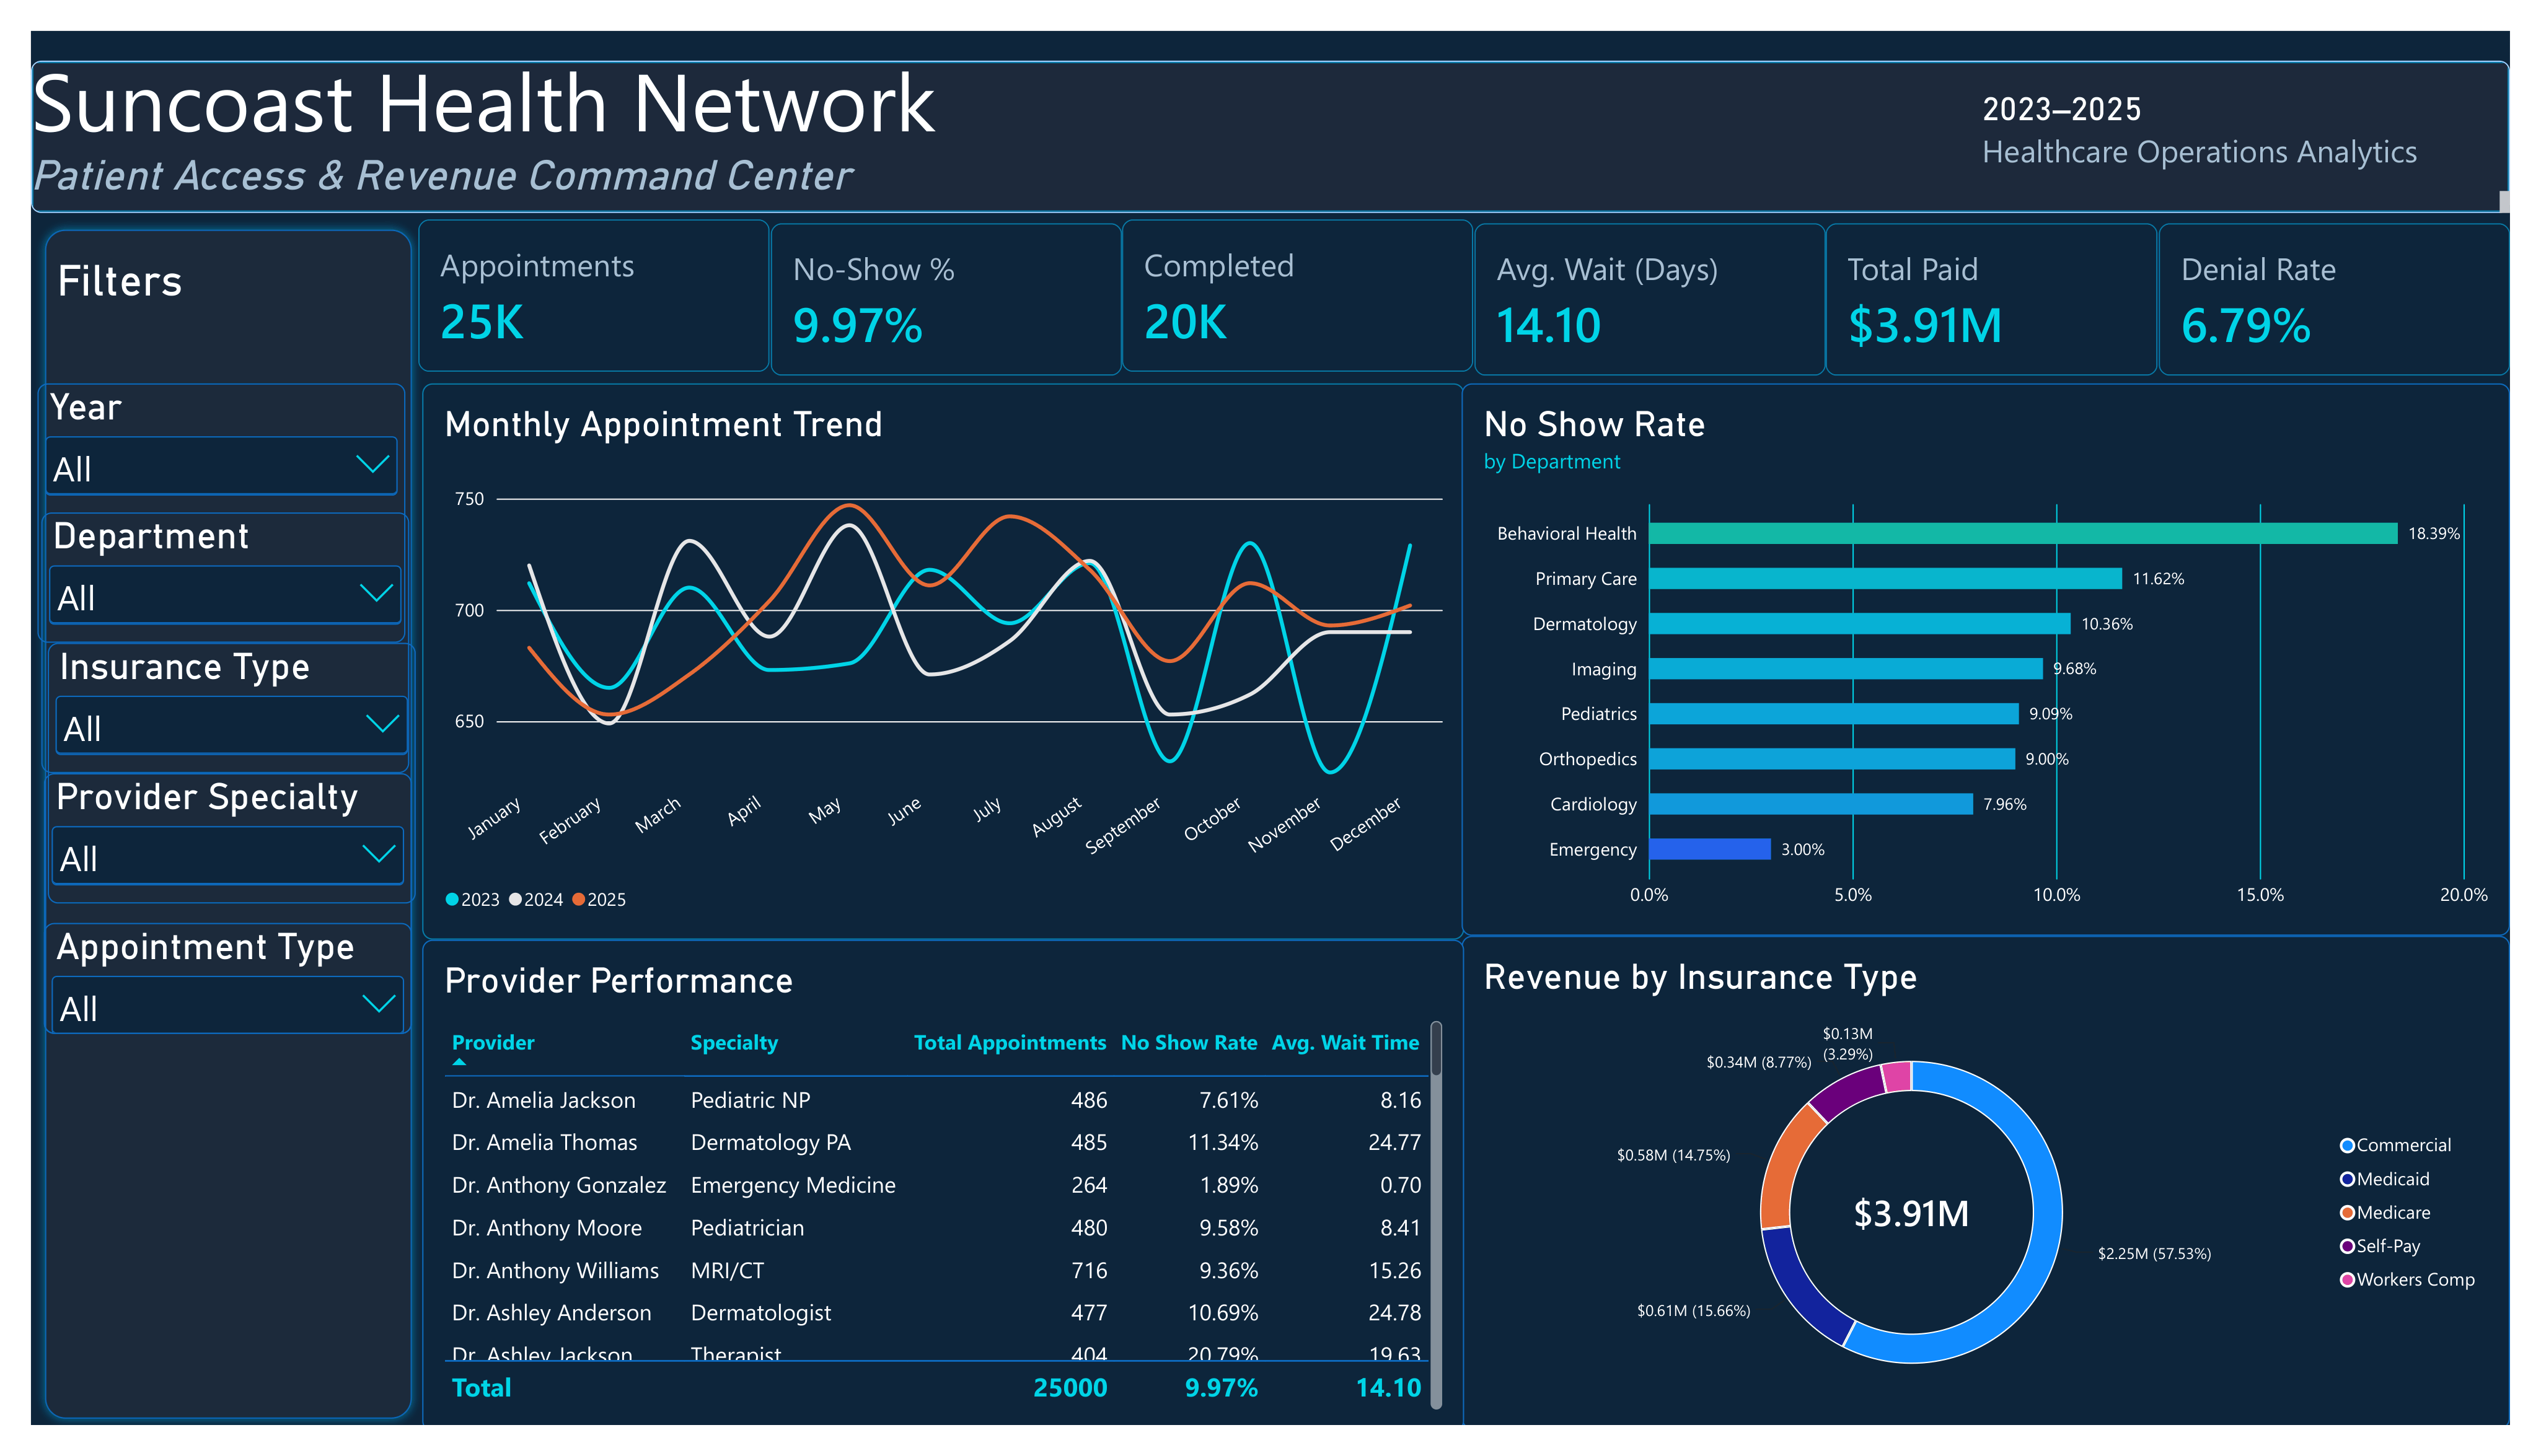

The page's visual inventory and layout, read from the dashboard file:
{"tool":"powerbi","page":{"name":"Executive Overview","canvas":[1920,1080],"ordinal":0},"visuals":[{"type":"shape","box":[0,22.7,1920.3,118.6],"z":0},{"type":"textbox","title":"Suncoast Health Network","box":[0,10.1,1140.6,138.8],"z":1000},{"type":"textbox","title":"Patient Access & Revenue Command Center","box":[0,93.4,1920.3,40.4],"z":2000},{"type":"textbox","title":"2023–2025 ","box":[1511.5,45.4,408.8,95.9],"z":3000},{"type":"shape","title":"Filters","box":[2.5,146.4,300.3,936.2],"z":4000},{"type":"textbox","title":"Filters","box":[20.2,174.1,244.8,93.4],"z":5000},{"type":"slicer","fields":{"Values":["DimDate.Year"]},"box":[5,272.5,285.1,201.9],"z":6000},{"type":"cardVisual","title":"No Show Rate","fields":{"Data":["FactAppointments.No Show Rate"]},"box":[572.8,148.9,272.5,118.6],"z":7000},{"type":"lineChart","title":"Monthly Appointment Trend","fields":{"Category":["DimDate.MonthName"],"Series":["DimDate.Year"],"Y":["DimDate.Total Appointments"]},"box":[302.8,272.5,807.5,431.5],"z":8000},{"type":"clusteredBarChart","title":"No Show Rate","fields":{"Category":["DimDepartment.DepartmentName"],"Y":["FactAppointments.No Show Rate"]},"box":[1107.8,272.5,812.5,429],"z":9000},{"type":"donutChart","title":"Revenue by Insurance Type","fields":{"Category":["DimInsurance.InsuranceType"],"Y":["DimDate.Total Paid by Appointment Year"]},"box":[1107.8,701.5,812.5,381],"z":10000},{"type":"tableEx","title":"Provider Performance","fields":{"Values":["DimProvider.ProviderName","DimProvider.Specialty","DimDate.Total Appointments","FactAppointments.No Show Rate","FactAppointments.Average Wait Time"]},"box":[302.8,704,807.5,381],"z":11000},{"type":"cardVisual","title":"No Show Rate","fields":{"Data":["DimDate.Total Appointments"]},"box":[300.3,146.4,272.5,118.6],"z":12000},{"type":"cardVisual","title":"No Show Rate","fields":{"Data":["FactAppointments.Completed Appointments"]},"box":[845.3,146.4,272.5,118.6],"z":13000},{"type":"cardVisual","title":"No Show Rate","fields":{"Data":["FactAppointments.Average Wait Time"]},"box":[1117.9,148.9,272.5,118.6],"z":14000},{"type":"cardVisual","title":"No Show Rate","fields":{"Data":["DimDate.Denial Rate by Appointment Year"]},"box":[1647.8,148.9,272.5,118.6],"z":15000},{"type":"cardVisual","title":"No Show Rate","fields":{"Data":["DimDate.Total Paid by Appointment Year"]},"box":[1390.4,148.9,257.4,118.6],"z":16000},{"type":"slicer","fields":{"Values":["DimDepartment.DepartmentName"]},"box":[7.6,373.5,285.1,201.9],"z":17000},{"type":"slicer","fields":{"Values":["DimInsurance.InsuranceType"]},"box":[12.6,474.4,285.1,201.9],"z":18000},{"type":"slicer","fields":{"Values":["DimProvider.Specialty"]},"box":[10.1,575.3,285.1,201.9],"z":19000},{"type":"slicer","fields":{"Values":["FactAppointments.AppointmentType"]},"box":[10.1,691.4,285.1,85.8],"z":20000}]}

Visuals, with their boxes on the page's 1920x1080 design canvas (x1, y1, x2, y2). These are canvas units, not pixel positions in the 2541x1456 screenshot, which may show the page scaled, cropped or inside an application window:
shape: box(0, 23, 1920, 141)
"Suncoast Health Network" textbox: box(0, 10, 1141, 149)
"Patient Access & Revenue Command Center" textbox: box(0, 93, 1920, 134)
"2023–2025 " textbox: box(1512, 45, 1920, 141)
"Filters" shape: box(2, 146, 303, 1083)
"Filters" textbox: box(20, 174, 265, 268)
slicer - DimDate.Year: box(5, 272, 290, 474)
"No Show Rate" cardVisual: box(573, 149, 845, 268)
"Monthly Appointment Trend" lineChart: box(303, 272, 1110, 704)
"No Show Rate" clusteredBarChart: box(1108, 272, 1920, 702)
"Revenue by Insurance Type" donutChart: box(1108, 702, 1920, 1082)
"Provider Performance" tableEx: box(303, 704, 1110, 1085)
"No Show Rate" cardVisual: box(300, 146, 573, 265)
"No Show Rate" cardVisual: box(845, 146, 1118, 265)
"No Show Rate" cardVisual: box(1118, 149, 1390, 268)
"No Show Rate" cardVisual: box(1648, 149, 1920, 268)
"No Show Rate" cardVisual: box(1390, 149, 1648, 268)
slicer - DimDepartment.DepartmentName: box(8, 374, 293, 575)
slicer - DimInsurance.InsuranceType: box(13, 474, 298, 676)
slicer - DimProvider.Specialty: box(10, 575, 295, 777)
slicer - FactAppointments.AppointmentType: box(10, 691, 295, 777)
